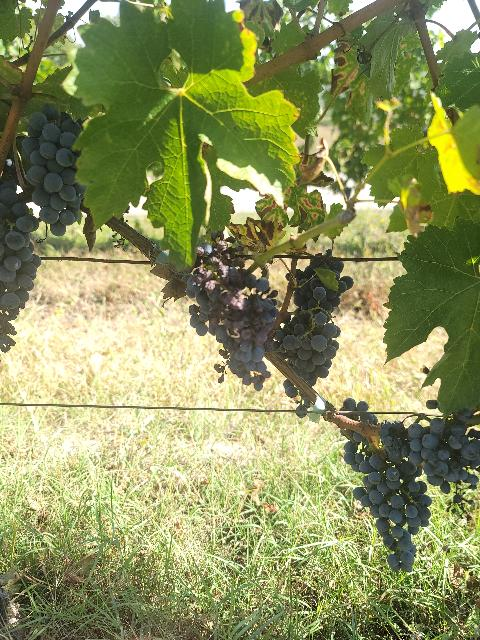grapes: (344, 440, 431, 571), (21, 104, 86, 236), (0, 180, 41, 352), (408, 414, 480, 494), (272, 311, 340, 385), (292, 258, 354, 312)
